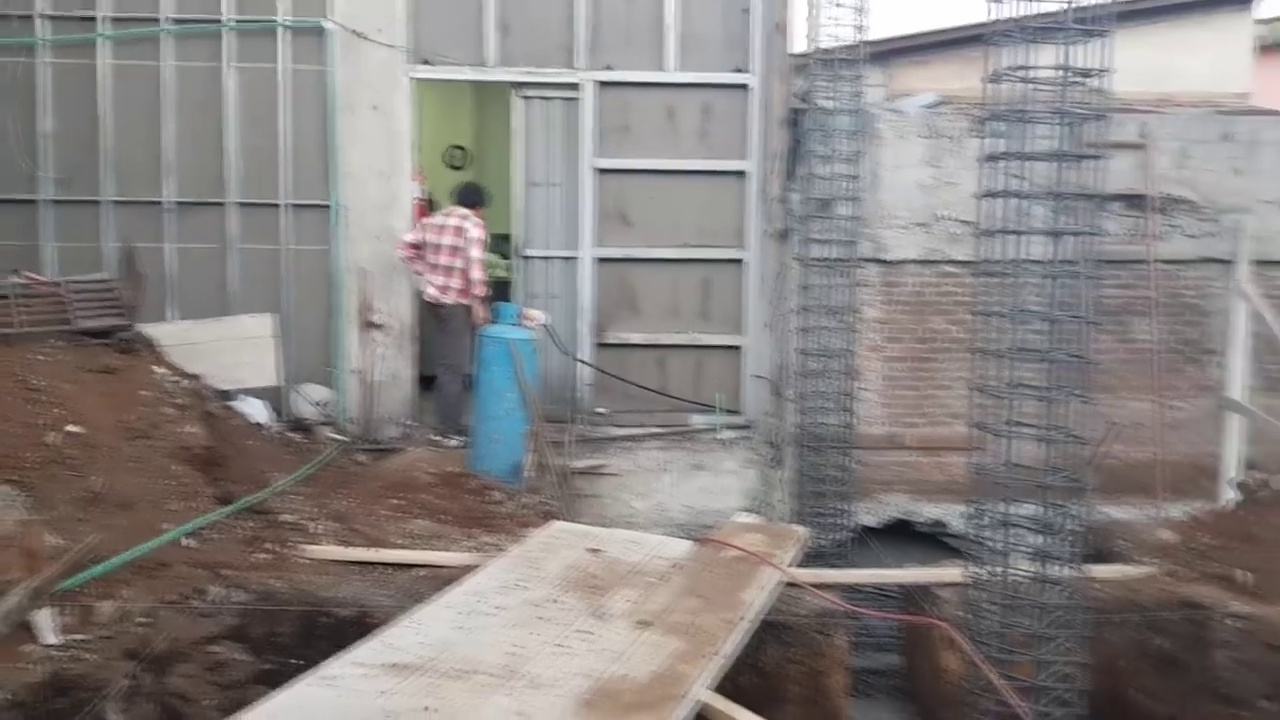helmet-off: (447, 183, 493, 220)
person: (397, 185, 493, 431)
